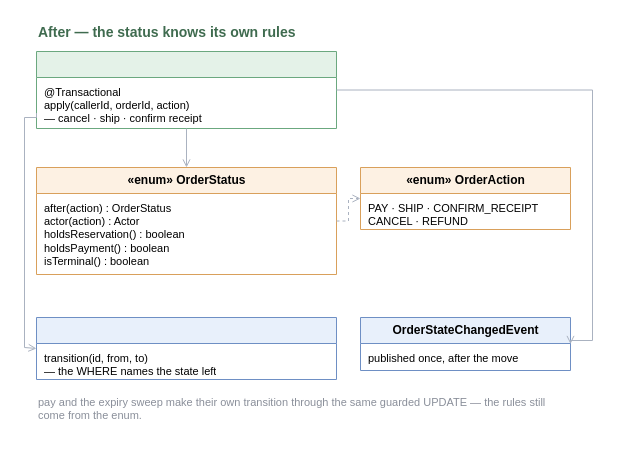
The diagram is 618 pixels wide and 449 high, and some of its shapes have lost their labels. Here are the shapes that lost their labels. From the top down, the box of each, then its label:
(36, 50, 336, 128): OrderStateService
(36, 316, 336, 380): OrderMapper
